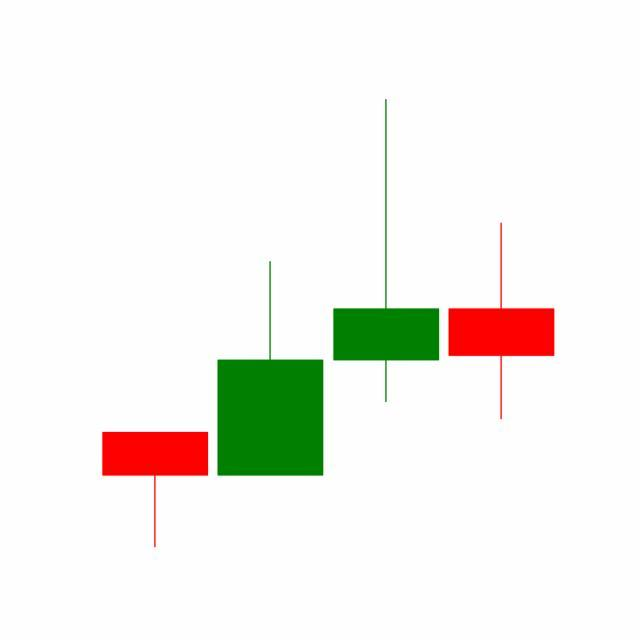Spinning Top: (444, 221, 560, 422)
